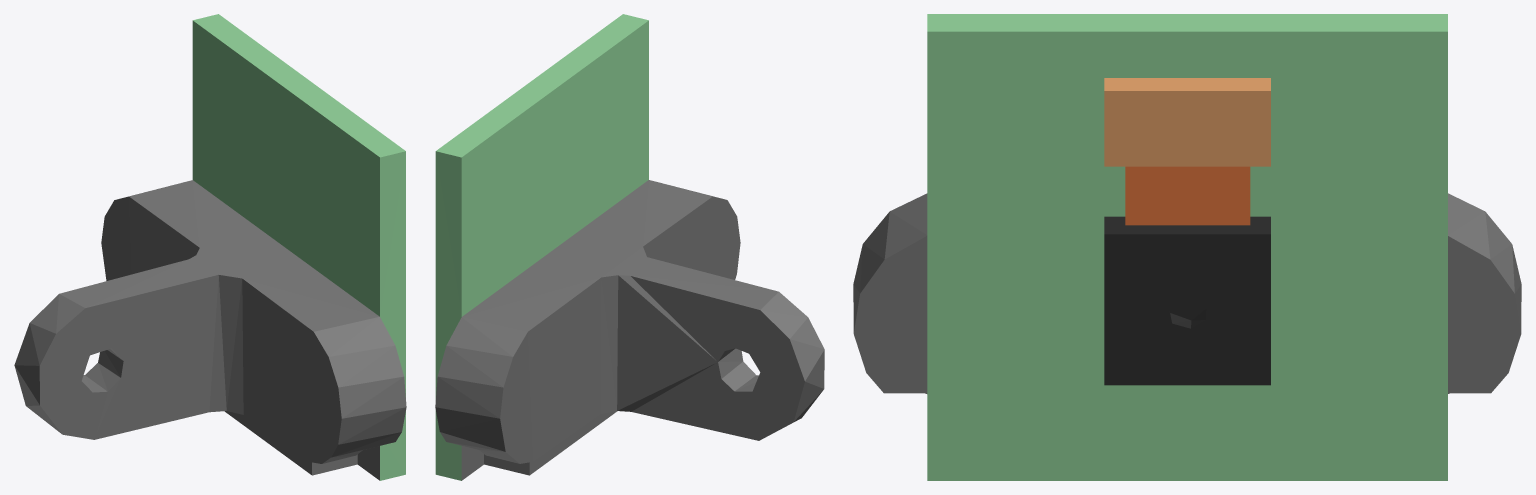
The model's file is camera_holder.dae.
3 views of the same model, side by side, from view 1: azimuth 30°, elevation 25°; view 2: azimuth 150°, elevation 25°; view 3: azimuth 270°, elevation 25° (orthographic). The views are drawn at different scales.
Parts seen in each view (by area): view 1: camera_holder; view 2: camera_holder; view 3: camera_holder.
Part boxes in pixels (<box>): camera_holder: <box>14,14,406,480</box>; camera_holder: <box>435,14,824,480</box>; camera_holder: <box>853,14,1521,480</box>.
Bounding box in the file's own units: 24.08 × 32.07 × 23.8.
